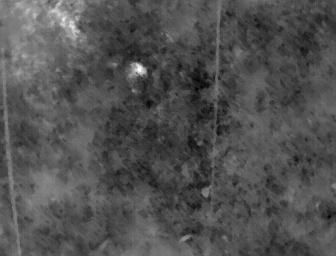landmine: (121, 60, 151, 88)
